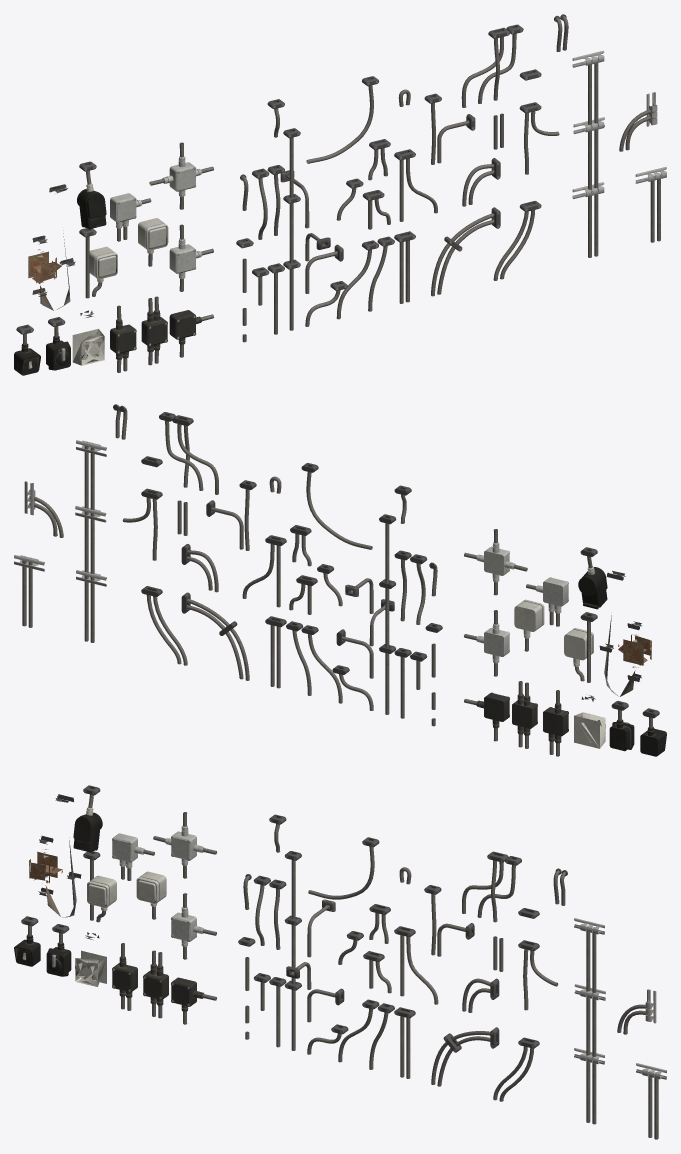
File: modular_electric_cables.fbx
3 renders of one model, top to bottom at view 1: azimuth 30°, elevation 25°; view 2: azimuth 150°, elevation 25°; view 3: azimuth 330°, elevation 25°, orthographic.
Visible parts, largest first — view 1: cable_double_alt_long, cable_switch, cable_3way_junction, cable_lightswitch_double, cable_straight_long, cable_plug_covered_2, cable_double_turn_long, cable_box_double, cable_box_4way, cable_plug_4x, cable_box_3way, cable_box_double_to_single (+14 smaller); view 2: cable_double_alt_long, cable_switch, cable_3way_junction, cable_straight_long, cable_lightswitch_double, cable_double_turn_long, cable_plug_covered_2, cable_box_double, cable_box_4way, cable_plug_4x, cable_box_double_to_single_2, cable_box_3way (+14 smaller); view 3: cable_double_alt_long, cable_switch, cable_3way_junction, cable_straight_long, cable_plug_covered_2, cable_lightswitch_double, cable_box_4way, cable_box_double, cable_double_turn_long, cable_plug_4x, cable_box_3way, cable_box_double_to_single (+14 smaller).
Part boxes in pixels (box(x1,y1,x2,y2)): cable_double_alt_long: box(572, 50, 604, 257); cable_switch: box(28, 184, 75, 310); cable_3way_junction: box(461, 24, 523, 107); cable_lightswitch_double: box(79, 228, 117, 298); cable_straight_long: box(283, 128, 300, 330); cable_plug_covered_2: box(77, 161, 106, 228); cable_double_turn_long: box(431, 207, 500, 296); cable_box_double: box(141, 296, 167, 365); cable_box_4way: box(149, 142, 213, 209); cable_plug_4x: box(72, 310, 104, 365); cable_box_3way: box(169, 224, 213, 291); cable_box_double_to_single: box(110, 305, 136, 372); cable_double_alt_long: box(75, 440, 106, 642); cable_switch: box(599, 570, 651, 696); cable_3way_junction: box(159, 412, 218, 494); cable_straight_long: box(379, 514, 396, 714); cable_lightswitch_double: box(564, 612, 597, 682); cable_double_turn_long: box(181, 592, 249, 680); cable_plug_covered_2: box(578, 547, 607, 609); cable_box_double: box(512, 681, 537, 748); cable_box_4way: box(464, 529, 527, 595); cable_plug_4x: box(574, 695, 605, 748); cable_box_double_to_single_2: box(526, 577, 568, 626); cable_box_3way: box(464, 610, 509, 676); cable_double_alt_long: box(574, 918, 605, 1124); cable_switch: box(29, 794, 81, 917); cable_3way_junction: box(462, 851, 521, 922); cable_straight_long: box(284, 851, 301, 1050); cable_plug_covered_2: box(73, 785, 102, 852); cable_lightswitch_double: box(83, 851, 116, 922); cable_box_4way: box(153, 812, 216, 878); cable_box_double: box(143, 950, 168, 1018); cable_double_turn_long: box(431, 1027, 499, 1086); cable_plug_4x: box(75, 932, 106, 986); cable_box_3way: box(171, 893, 216, 959); cable_box_double_to_single: box(112, 943, 137, 1010).
Bounding box in the file's own units: 208 × 75.73 × 21.45.
Materials: 2 (2 with a texture image).
